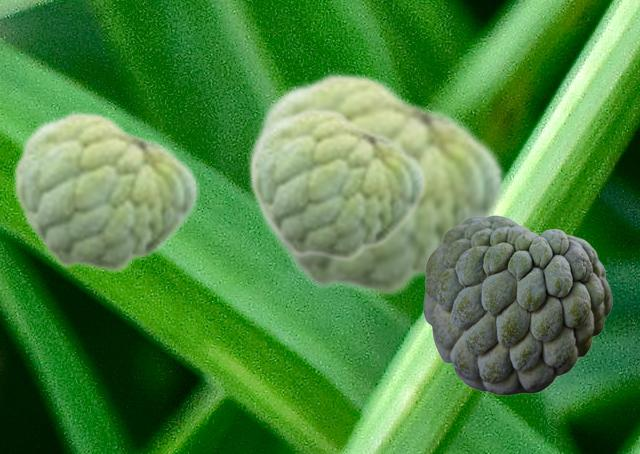atis: (245, 69, 504, 298), (423, 215, 611, 394), (11, 109, 198, 274), (248, 106, 425, 262)
